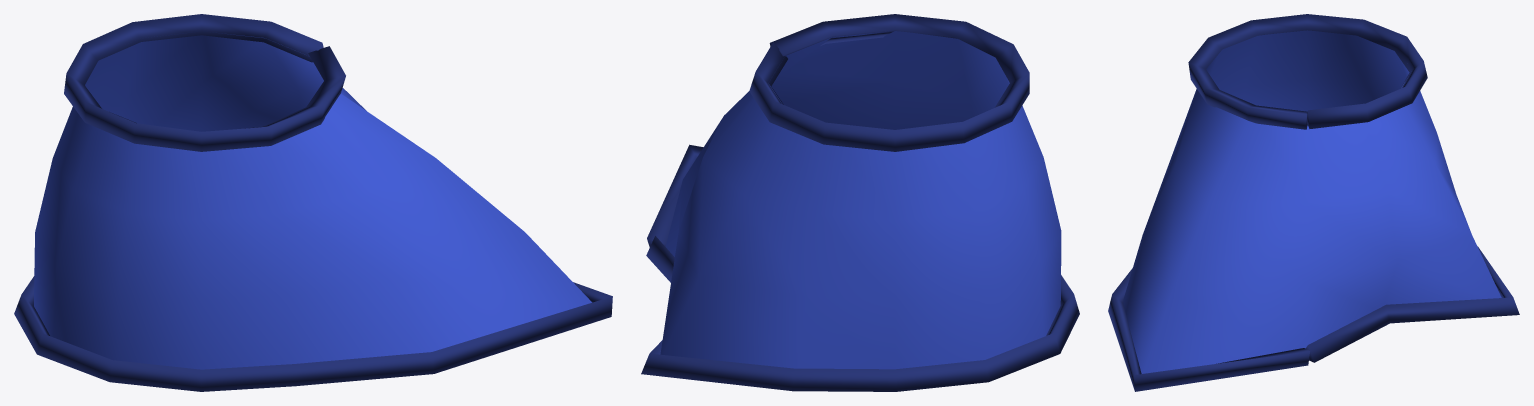
File: shroomite_armor_pauldron.L.glb
3 renders of one model, left to right at view 1: azimuth 30°, elevation 25°; view 2: azimuth 150°, elevation 25°; view 3: azimuth 270°, elevation 25°, orthographic. The views are drawn at different scales.
Visible parts, largest first — view 1: shroomite_armor_pauldron.L; view 2: shroomite_armor_pauldron.L; view 3: shroomite_armor_pauldron.L.
Part boxes in pixels (bbox=[...]): shroomite_armor_pauldron.L: bbox=[14, 14, 612, 391]; shroomite_armor_pauldron.L: bbox=[641, 14, 1079, 391]; shroomite_armor_pauldron.L: bbox=[1108, 14, 1519, 391].
Bounding box in the file's own units: 0.3323 × 0.1646 × 0.2981.
